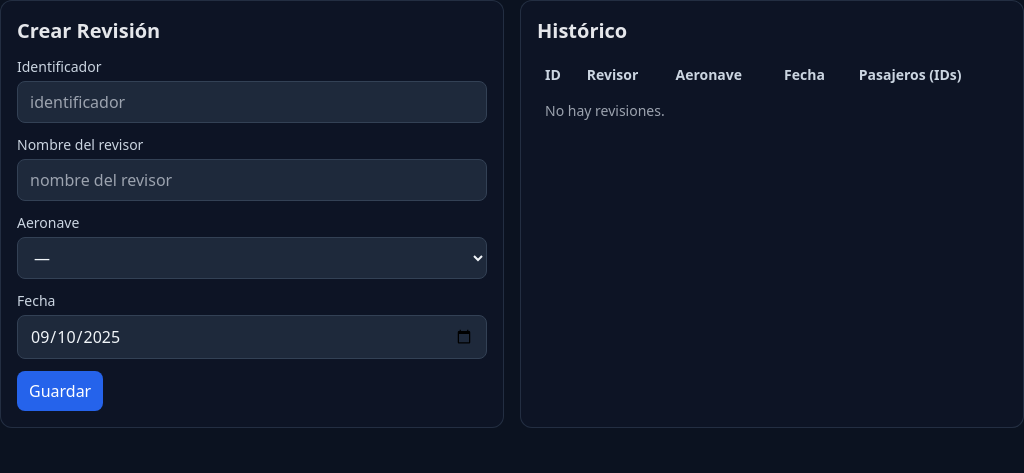
Test: RevisionesPage – éxito al crear revisión › POST 201 resetea y muestra mensaje
The image size is (1024, 473).
Type "R1" into the field with placeholder "identificador". click: (252, 102)
box: [17, 81, 487, 123]
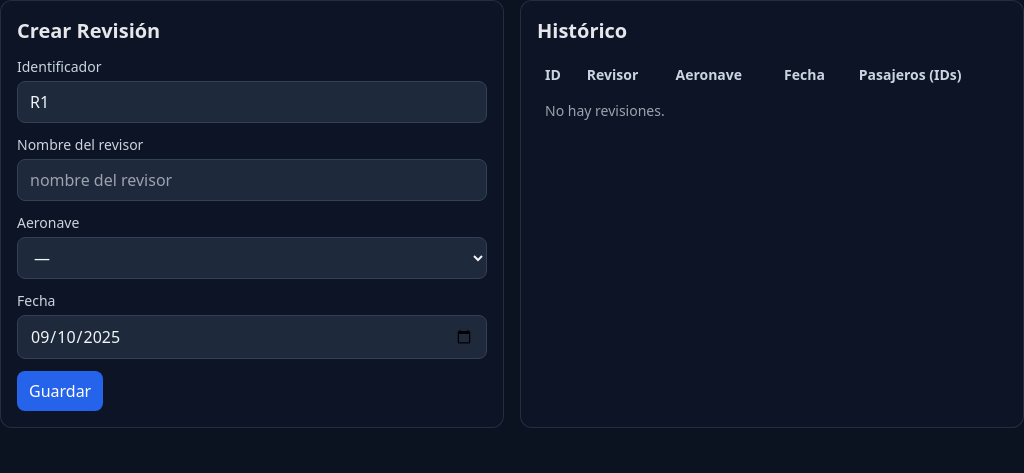
Type "Zaphod" into the field with placeholder "nombre del revisor". click: (252, 180)
box: [17, 159, 487, 201]
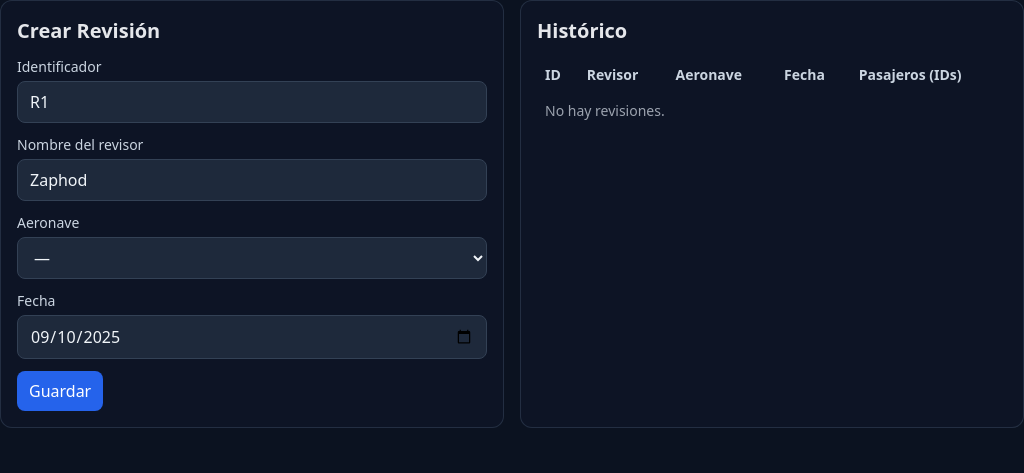
Select "Uno (A1)" in the dropdown. click: (252, 258)
box: [17, 237, 487, 279]
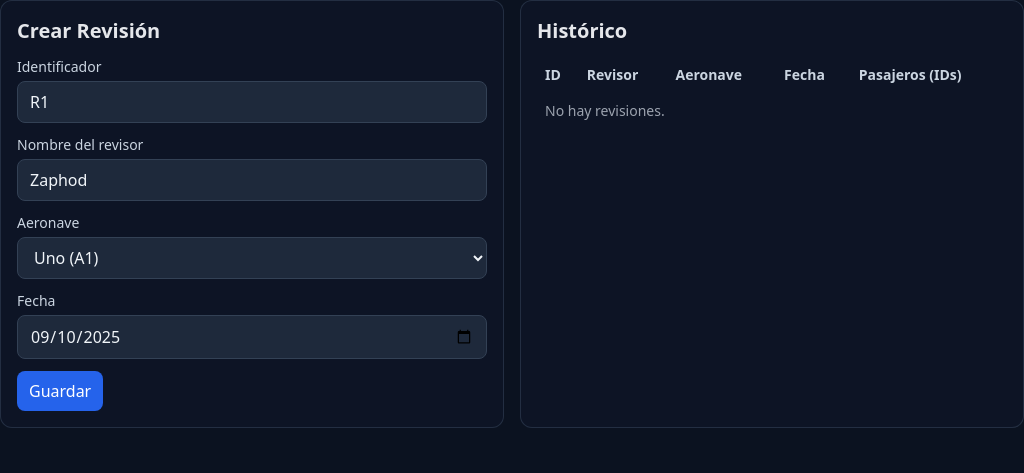
Click the button "Guardar". click: (60, 391)
box: [17, 371, 103, 411]
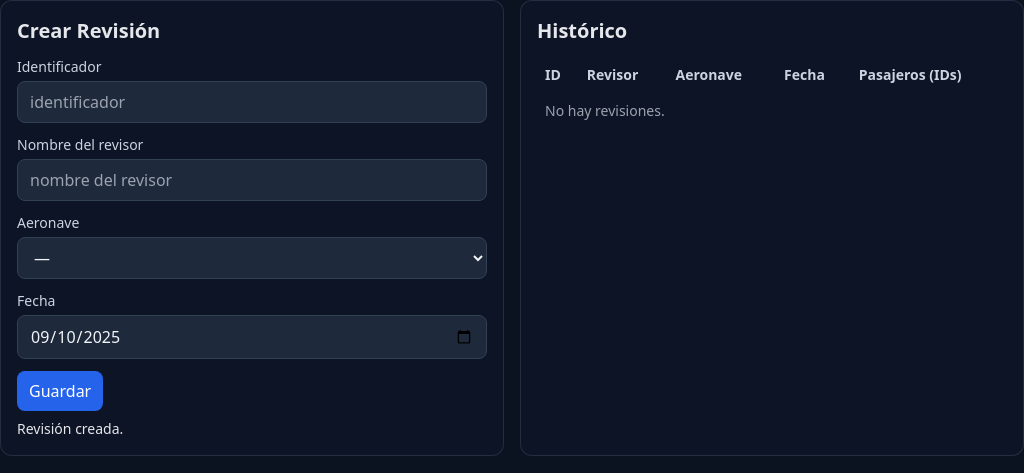
Expected: the text "Revisión creada." is shown, [17, 419, 123, 438]
Expected: the field with placeholder "identificador" is empty, [17, 81, 487, 123]
Expected: the field with placeholder "nombre del revisor" is empty, [17, 159, 487, 201]
